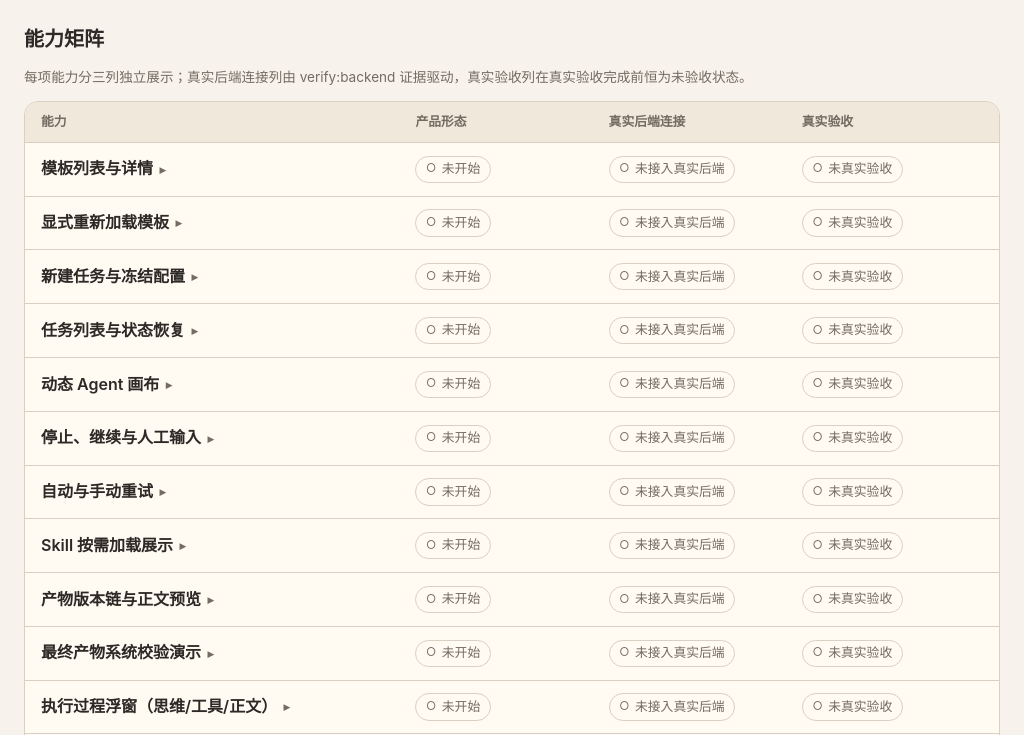
Test case: DevelopmentProgressPage › shows the unverified observation text before any run
(page scrolled)
Check: the list item "动态 Agent 画布" is shown, box [25, 357, 999, 411]
Click the button "动态 Agent 画布" at (100, 384), box [41, 368, 403, 401]
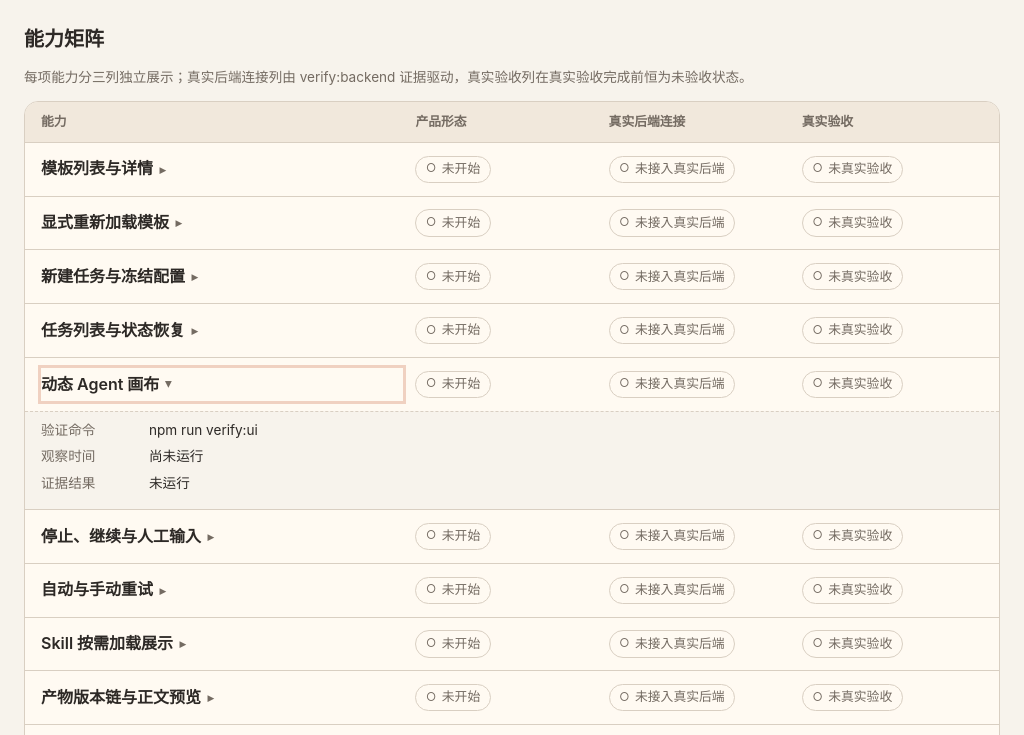
Check: the text "尚未运行" is shown, box [149, 448, 203, 464]
Check: the text "未运行" is shown, box [149, 475, 190, 491]
